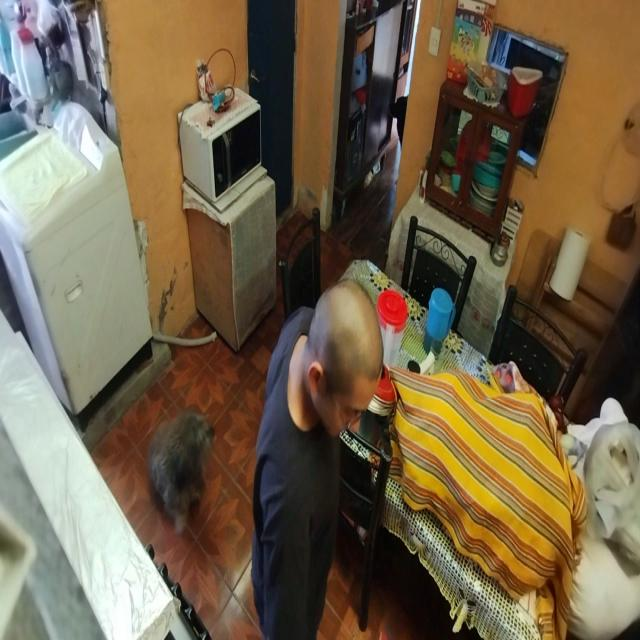adult: (247, 263, 385, 640)
